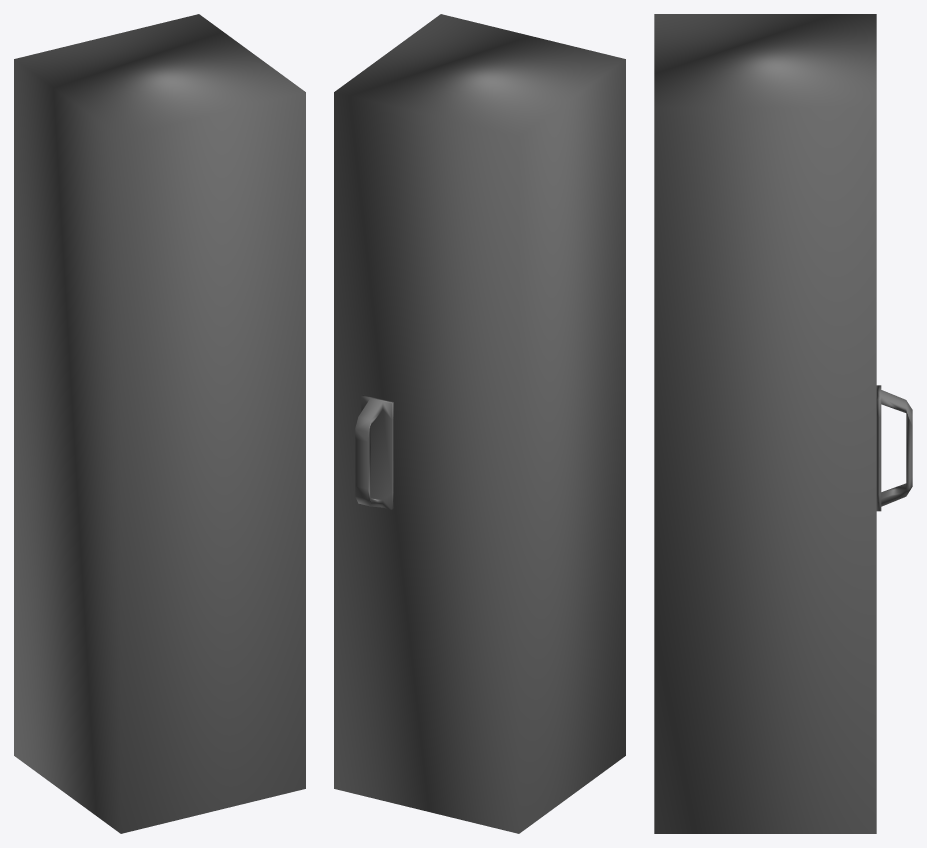
File: metal locker.fbx
3 renders of one model, left to right at view 1: azimuth 30°, elevation 25°; view 2: azimuth 150°, elevation 25°; view 3: azimuth 270°, elevation 25°, orthographic. The views are drawn at different scales.
Visible parts, largest first — view 1: Metal_Locker; view 2: Metal_Locker; view 3: Metal_Locker.
Part boxes in pixels (left/top/right/bottom): Metal_Locker: left=14, top=14, right=305, bottom=833; Metal_Locker: left=334, top=14, right=625, bottom=833; Metal_Locker: left=654, top=14, right=912, bottom=833.
Bounding box in the file's own units: 50 × 58.1 × 180.
